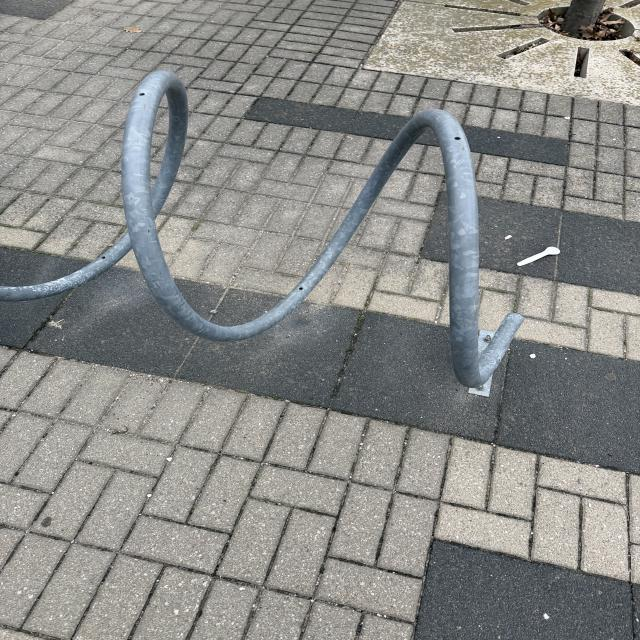Bicycle Rack: (2, 70, 530, 398)
